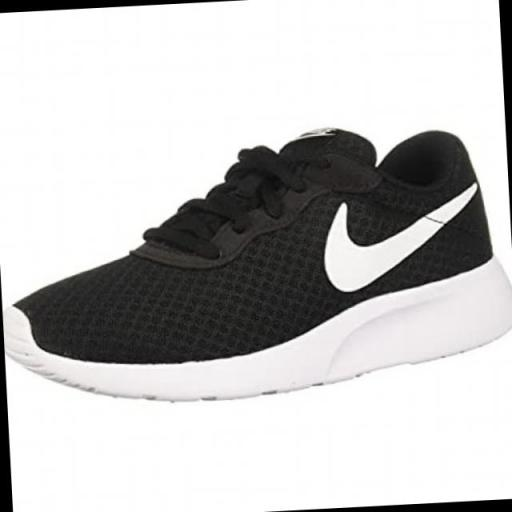Nike: (314, 182, 487, 303)
